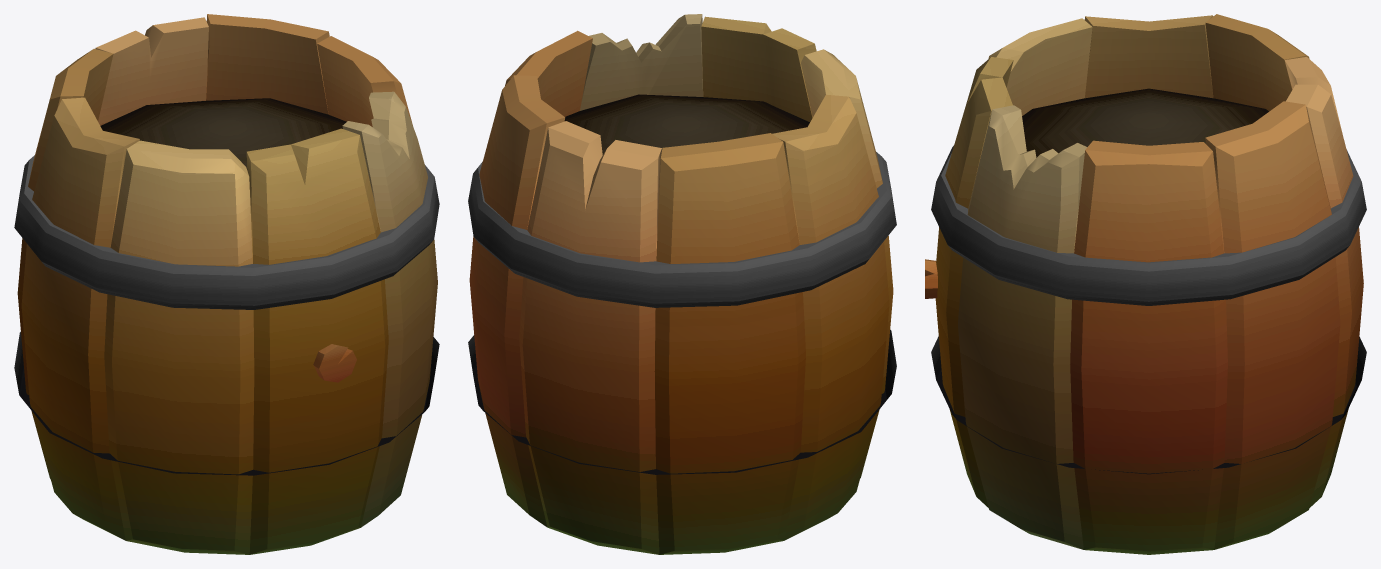
Rendered from barrel.glb.
3 renders of one model, left to right at view 1: azimuth 30°, elevation 25°; view 2: azimuth 150°, elevation 25°; view 3: azimuth 270°, elevation 25°, orthographic.
Visible parts, largest first — view 1: barrel; view 2: barrel; view 3: barrel.
Part boxes in pixels (x1,y1,x2,y2): barrel: (14, 14, 439, 554); barrel: (468, 14, 896, 554); barrel: (925, 14, 1366, 554).
Bounding box in the file's own units: 0.9715 × 1 × 0.9849.
Materials: 1 (1 with a texture image).
